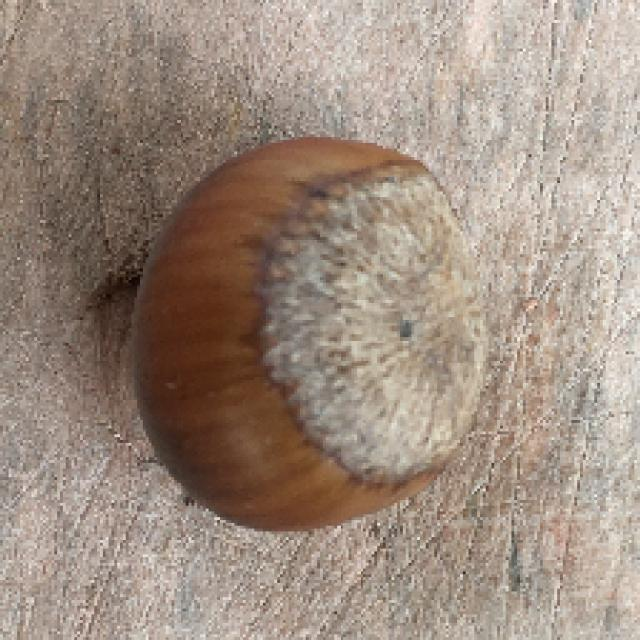damagedHazelnut: (130, 141, 494, 537)
